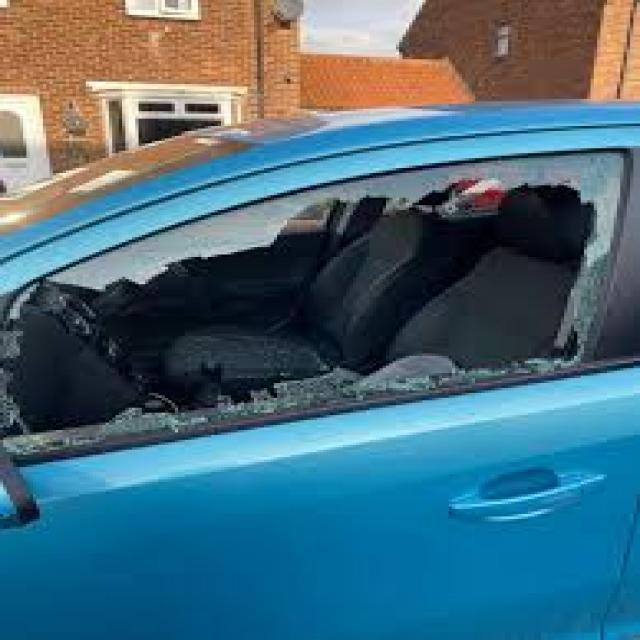damaged-window: (7, 143, 640, 456)
